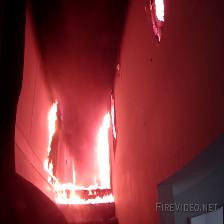fire: (39, 56, 136, 219), (139, 0, 174, 48)
